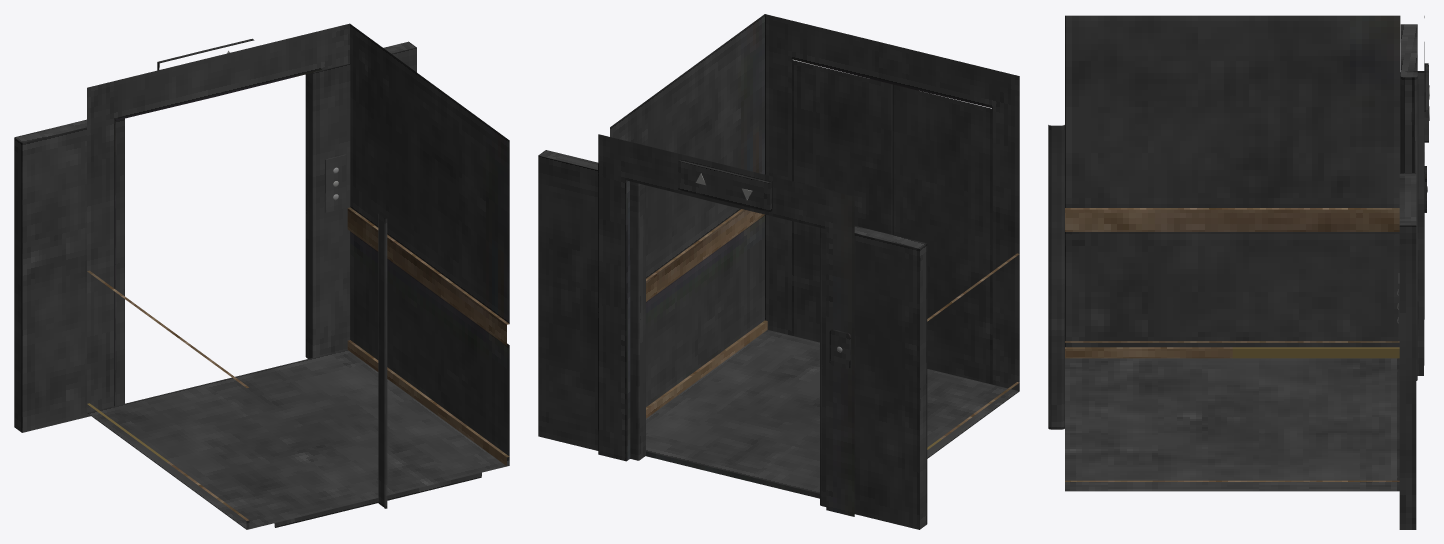
The model's file is elevator.glb.
3 renders of one model, left to right at view 1: azimuth 30°, elevation 25°; view 2: azimuth 150°, elevation 25°; view 3: azimuth 270°, elevation 25°, orthographic. The views are drawn at different scales.
Parts seen in each view (by area): view 1: body, doorL, doorR; view 2: body, doorL, doorR; view 3: body, doorR, doorL.
Boxes of the visible parts, left/top/right/bottom form: body: left=87, top=23, right=509, bottom=529; doorL: left=14, top=118, right=124, bottom=432; doorR: left=305, top=41, right=416, bottom=358; body: left=598, top=14, right=1019, bottom=516; doorL: left=820, top=226, right=927, bottom=529; doorR: left=538, top=150, right=645, bottom=460; body: left=1048, top=15, right=1429, bottom=491; doorR: left=1399, top=173, right=1416, bottom=529; doorL: left=1400, top=24, right=1417, bottom=380.
Size of the model in its own units: 2.13 by 1.72 by 1.71.
Materials: 5 (4 with a texture image).
